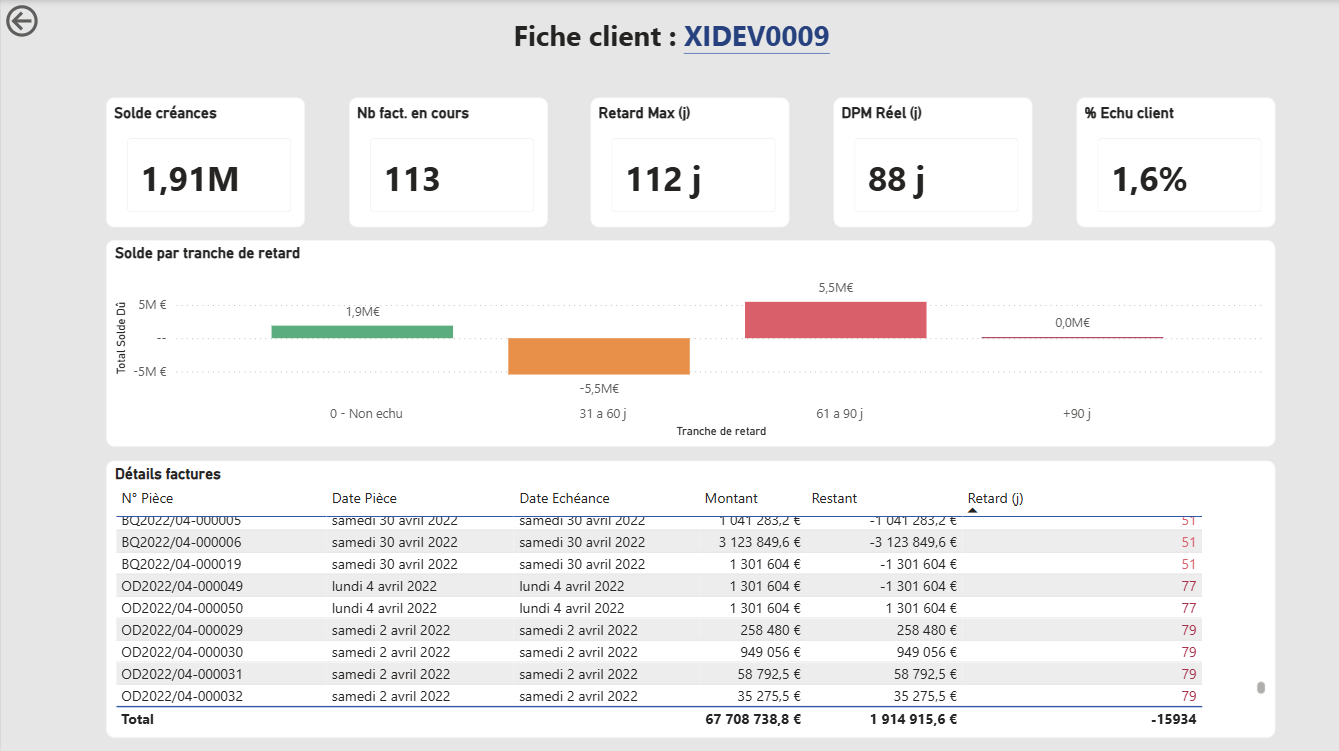

The dashboard page shown, as its layout file describes it:
{"tool":"powerbi","page":{"name":"Fiche Client","canvas":[1280,720],"ordinal":3},"visuals":[{"type":"actionButton","box":[0,0,100,40],"z":0},{"type":"cardVisual","title":"Solde créances","fields":{"Data":["Fact_BalanceAgee.Total Solde Dû"]},"box":[100,92.7,190.1,123.9],"z":1000},{"type":"cardVisual","title":"Nb fact. en cours","fields":{"Data":["Fact_BalanceAgee.Nb Factures en Cours"]},"box":[331.7,92.7,190.1,123.9],"z":2000},{"type":"cardVisual","title":"   Retard Max (j)","fields":{"Data":["Fact_BalanceAgee.Retard Max (j)"]},"box":[563.4,92.7,190.1,123.9],"z":3000},{"type":"cardVisual","title":"DPM Réel (j)","fields":{"Data":["Fact_BalanceAgee.DMP Réel"]},"box":[795.1,92.7,190.1,123.9],"z":4000},{"type":"cardVisual","title":" % Echu client","fields":{"Data":["Fact_BalanceAgee.% Échu Client"]},"box":[1026.8,92.7,190.1,123.9],"z":5000},{"type":"tableEx","title":"Détails factures","fields":{"Values":["Fact_BalanceAgee.N° Pièce","Fact_BalanceAgee.Date Pièce","Fact_BalanceAgee.Date Echéance","Sum(Fact_BalanceAgee.Montant HT)","Sum(Fact_BalanceAgee.Montant restant dû HT)","Sum(Fact_BalanceAgee.Nombre Jrs retard)"]},"box":[100,439.2,1116.9,264.8],"z":6000},{"type":"clusteredColumnChart","title":"Solde par tranche de retard","fields":{"Y":["Fact_BalanceAgee.Total Solde Dû"],"Category":["Fact_BalanceAgee.Tranche de retard"]},"box":[100,229.3,1116.9,197.2],"z":7000},{"type":"textbox","box":[0,10,1280.6,58.7],"z":7001}]}

Visuals, with their boxes in screenshot pixels (x1, y1, x2, y2), scaled from the page's 1280x720 canvas onto the 1339x751 screenshot:
actionButton: BBox(0, 0, 105, 42)
"Solde créances" cardVisual: BBox(105, 97, 303, 226)
"Nb fact. en cours" cardVisual: BBox(347, 97, 546, 226)
"   Retard Max (j)" cardVisual: BBox(589, 97, 788, 226)
"DPM Réel (j)" cardVisual: BBox(832, 97, 1031, 226)
" % Echu client" cardVisual: BBox(1074, 97, 1273, 226)
"Détails factures" tableEx: BBox(105, 458, 1273, 734)
"Solde par tranche de retard" clusteredColumnChart: BBox(105, 239, 1273, 445)
textbox: BBox(0, 10, 1338, 72)
